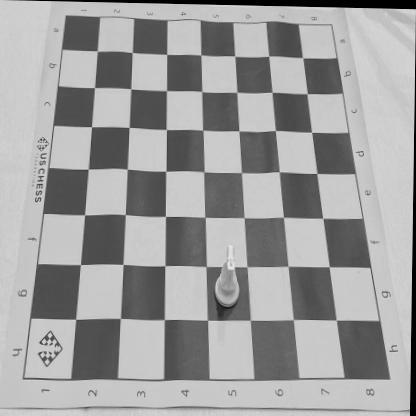white-knight: (215, 244, 242, 308)
